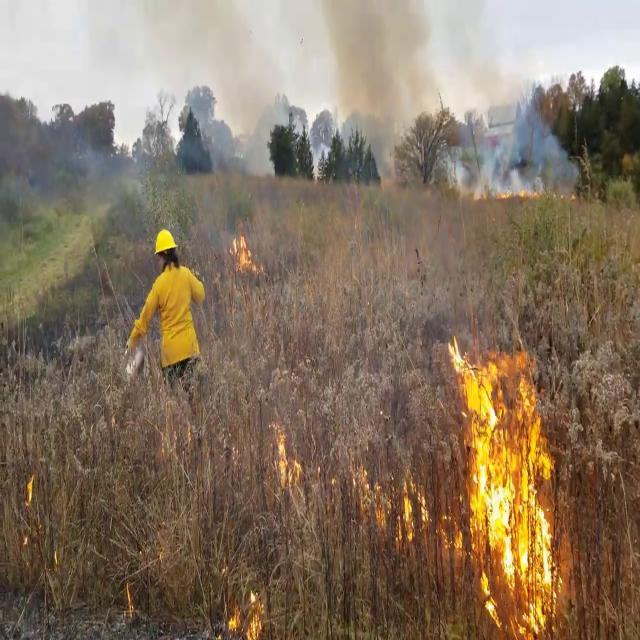Fire: (446, 327, 558, 624), (347, 444, 388, 538), (394, 464, 430, 551), (269, 417, 304, 503), (224, 580, 266, 640), (230, 220, 254, 272)
Smoke: (325, 0, 437, 182), (198, 0, 284, 181), (469, 76, 577, 201)
